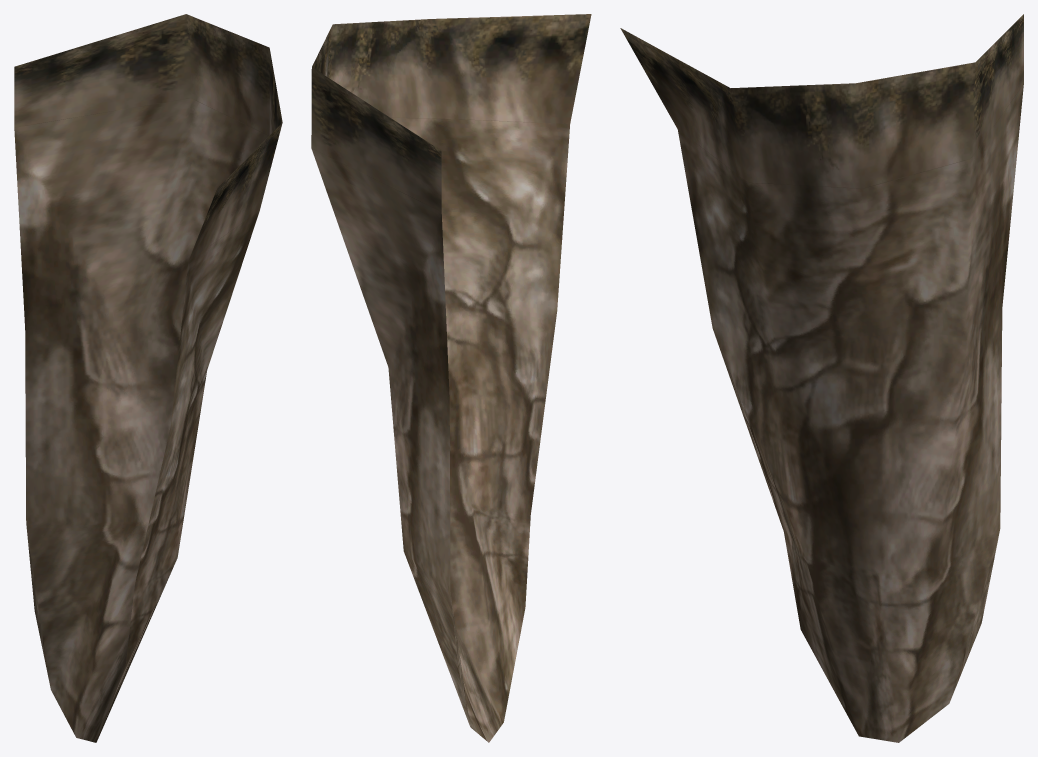
Rendered from OVERHILL_A_01_ROCK_SLAB_03.fbx.
3 views of the same model, side by side, from view 1: azimuth 30°, elevation 25°; view 2: azimuth 150°, elevation 25°; view 3: azimuth 270°, elevation 25° (orthographic). The views are drawn at different scales.
Visible parts, largest first — view 1: OVERHILL_A_01_ROCK_SLAB_03; view 2: OVERHILL_A_01_ROCK_SLAB_03; view 3: OVERHILL_A_01_ROCK_SLAB_03.
Part boxes in pixels (<box>): OVERHILL_A_01_ROCK_SLAB_03: <box>14,14,282,742</box>; OVERHILL_A_01_ROCK_SLAB_03: <box>311,14,591,742</box>; OVERHILL_A_01_ROCK_SLAB_03: <box>620,14,1023,742</box>.
Size of the model in its own units: 18536 by 63871 by 30725.
Materials: 2 (2 with a texture image).
